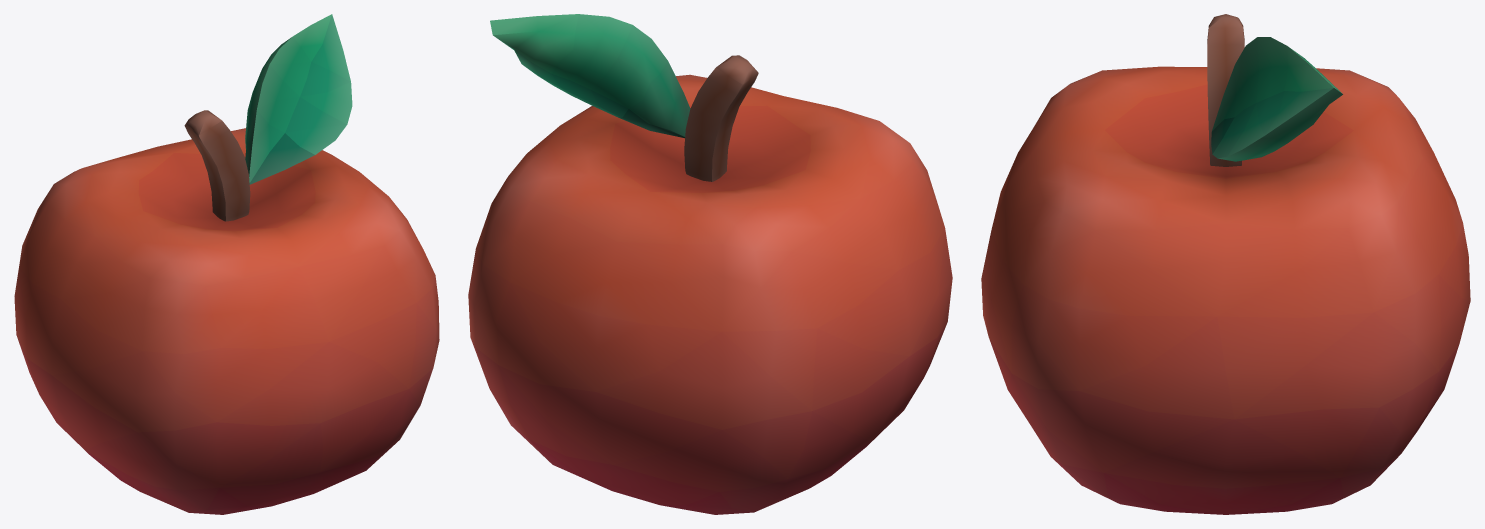
The model's file is prop_apple_red.glb.
The picture shows the model from 3 angles, left to right: view 1: azimuth 30°, elevation 25°; view 2: azimuth 150°, elevation 25°; view 3: azimuth 270°, elevation 25°; orthographic projection. The views are drawn at different scales.
Visible parts, largest first — view 1: refined; view 2: refined; view 3: refined.
Part boxes in pixels (x1,y1,x2,y2): refined: (14, 14, 439, 514); refined: (468, 14, 952, 514); refined: (981, 14, 1470, 514).
Size of the model in its own units: 0.45 by 0.5 by 0.45.
